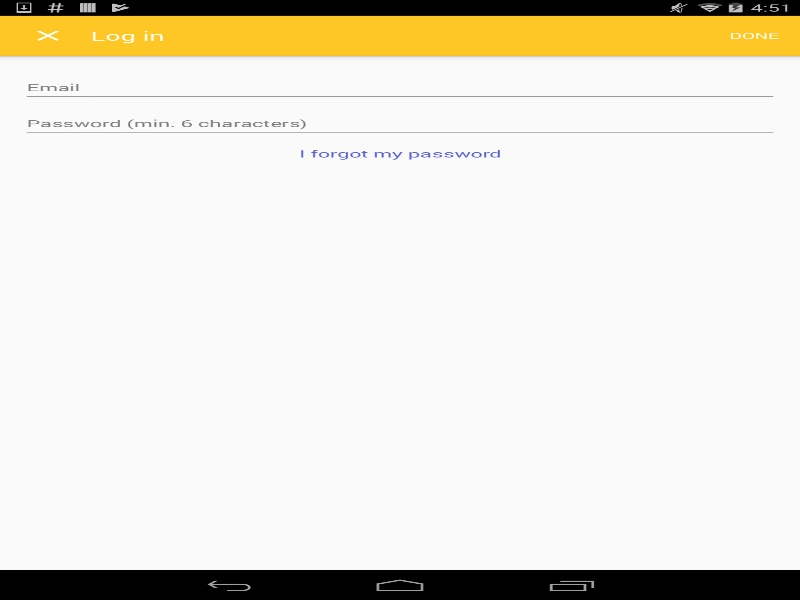Button: (10, 15, 85, 55)
Input: (21, 110, 778, 137), (21, 75, 778, 101)
